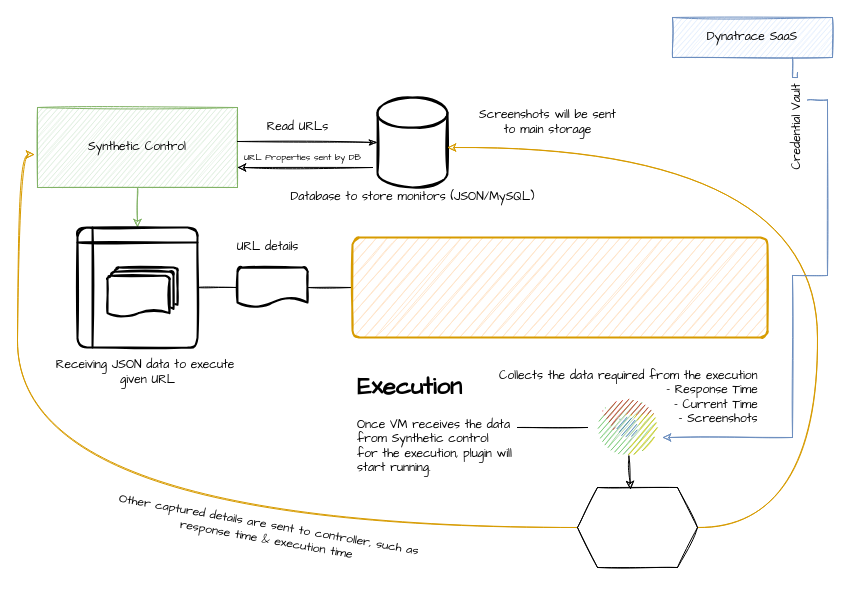
Image size: 854x593. Some labels were removed from this diagram. The shapes that lost their labels are listed below. From the top down, each one's centre as x and y in pixels, then its label:
At pixel 559 287: "Virtual Machine".
At pixel 637 527: "Plugin Controller".
